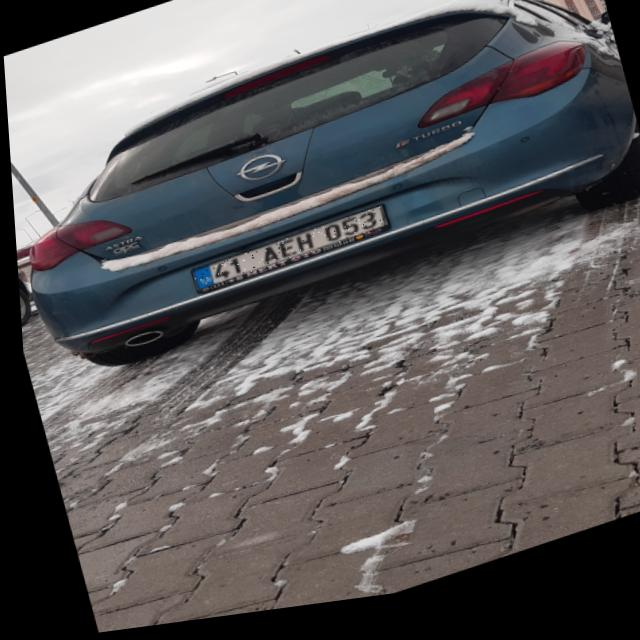license_plate: (185, 215, 386, 295)
